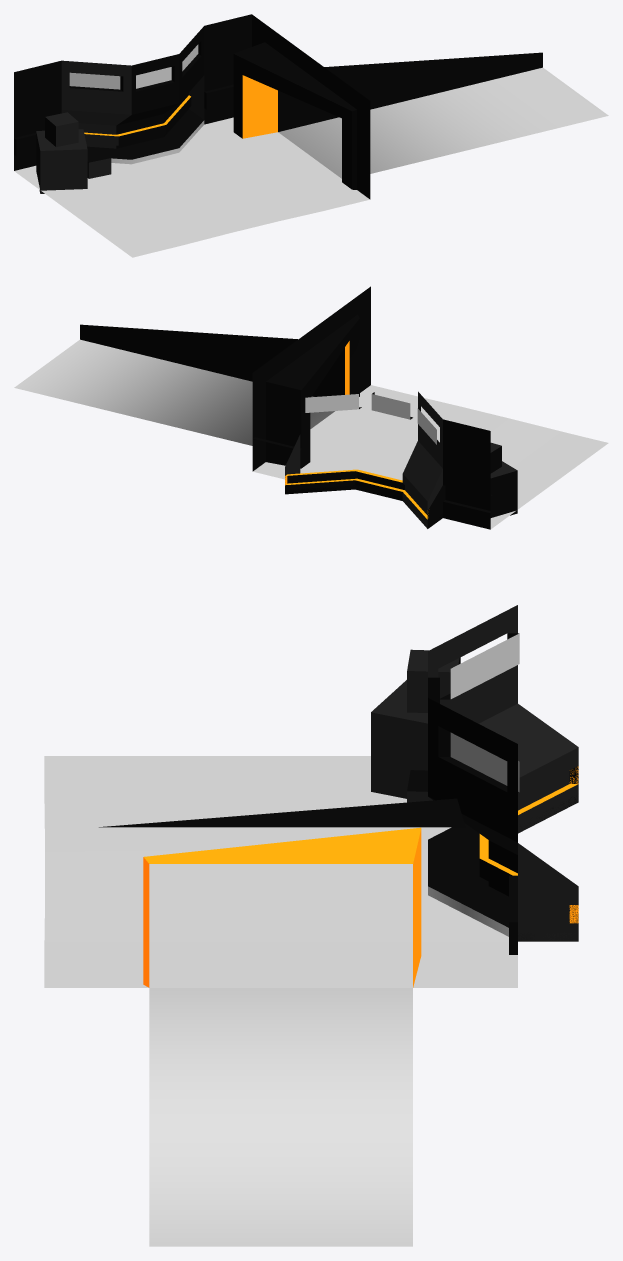
File: 3Tile2.fbx
3 renders of one model, top to bottom at view 1: azimuth 30°, elevation 25°; view 2: azimuth 150°, elevation 25°; view 3: azimuth 270°, elevation 25°, orthographic. The views are drawn at different scales.
Parts seen in each view (by area): view 1: Plane, Cube.027, Cube.031, Cube.032; view 2: Plane, Cube.027; view 3: Plane, Cube.027, Cube.031.
Boxes of the visible parts, bbox=[...] form: Plane: bbox=[14, 14, 608, 257]; Cube.027: bbox=[36, 129, 87, 193]; Cube.031: bbox=[45, 112, 78, 147]; Cube.032: bbox=[87, 148, 111, 178]; Plane: bbox=[14, 286, 608, 529]; Cube.027: bbox=[490, 461, 517, 517]; Plane: bbox=[44, 605, 578, 1246]; Cube.027: bbox=[371, 680, 427, 798]; Cube.031: bbox=[407, 649, 460, 712].
Size of the model in its own units: 18942 by 3784 by 8715.
